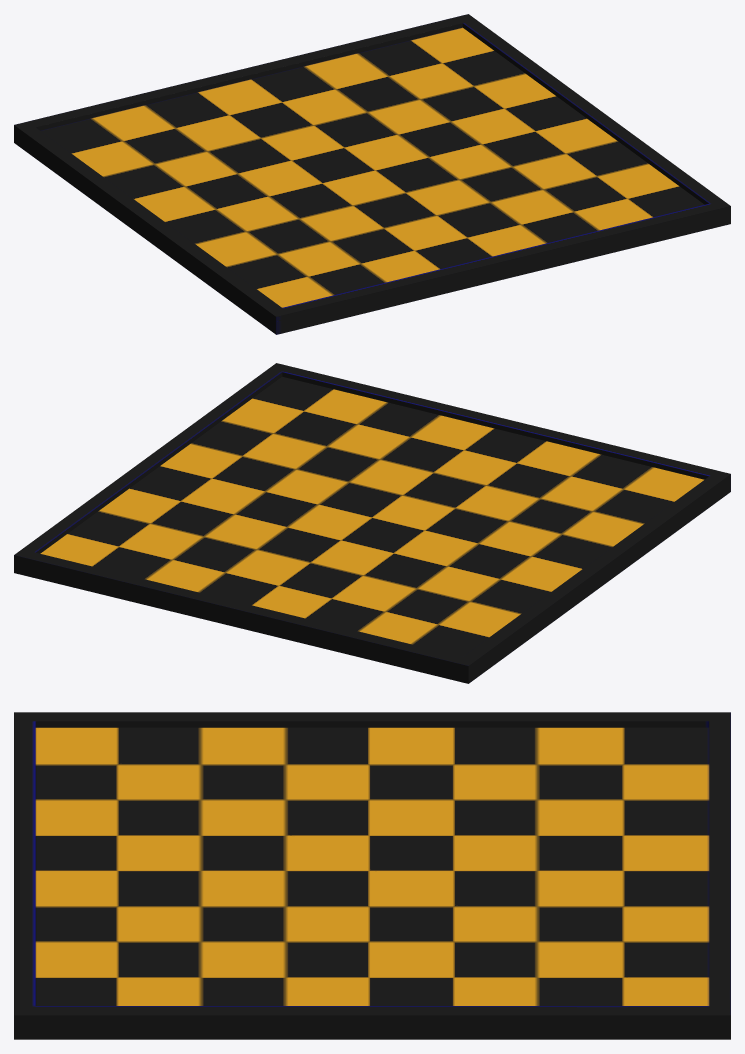
File: Schaakbord_U_001.fbx
The picture shows the model from 3 angles, top to bottom: view 1: azimuth 30°, elevation 25°; view 2: azimuth 150°, elevation 25°; view 3: azimuth 270°, elevation 25°; orthographic projection. The views are drawn at different scales.
Parts seen in each view (by area): view 1: Schaakbord; view 2: Schaakbord; view 3: Schaakbord.
Part boxes in pixels (x1,y1,x2,y2): Schaakbord: (14,14,730,334); Schaakbord: (14,363,730,683); Schaakbord: (14,712,730,1039).
Bounding box in the file's own units: 2.03 × 0.0765 × 2.03.
